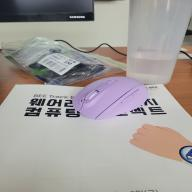mouse: (62, 68, 152, 126)
